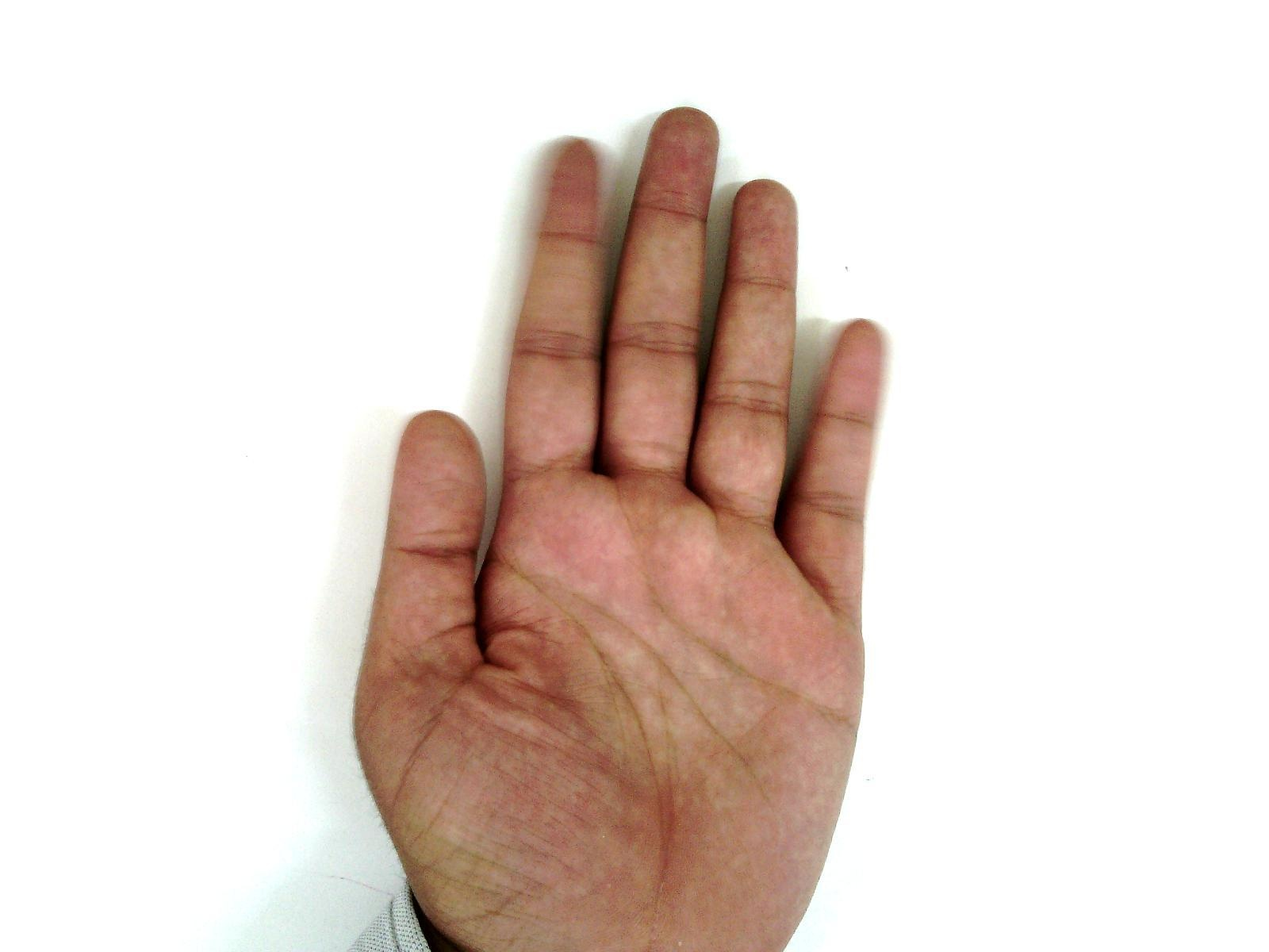open_palm: (350, 106, 895, 951)
